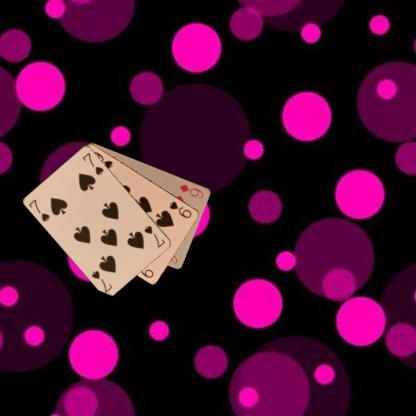6d: (177, 181, 204, 200)
7s: (26, 196, 51, 223), (142, 223, 166, 249)
9s: (167, 198, 193, 219)
